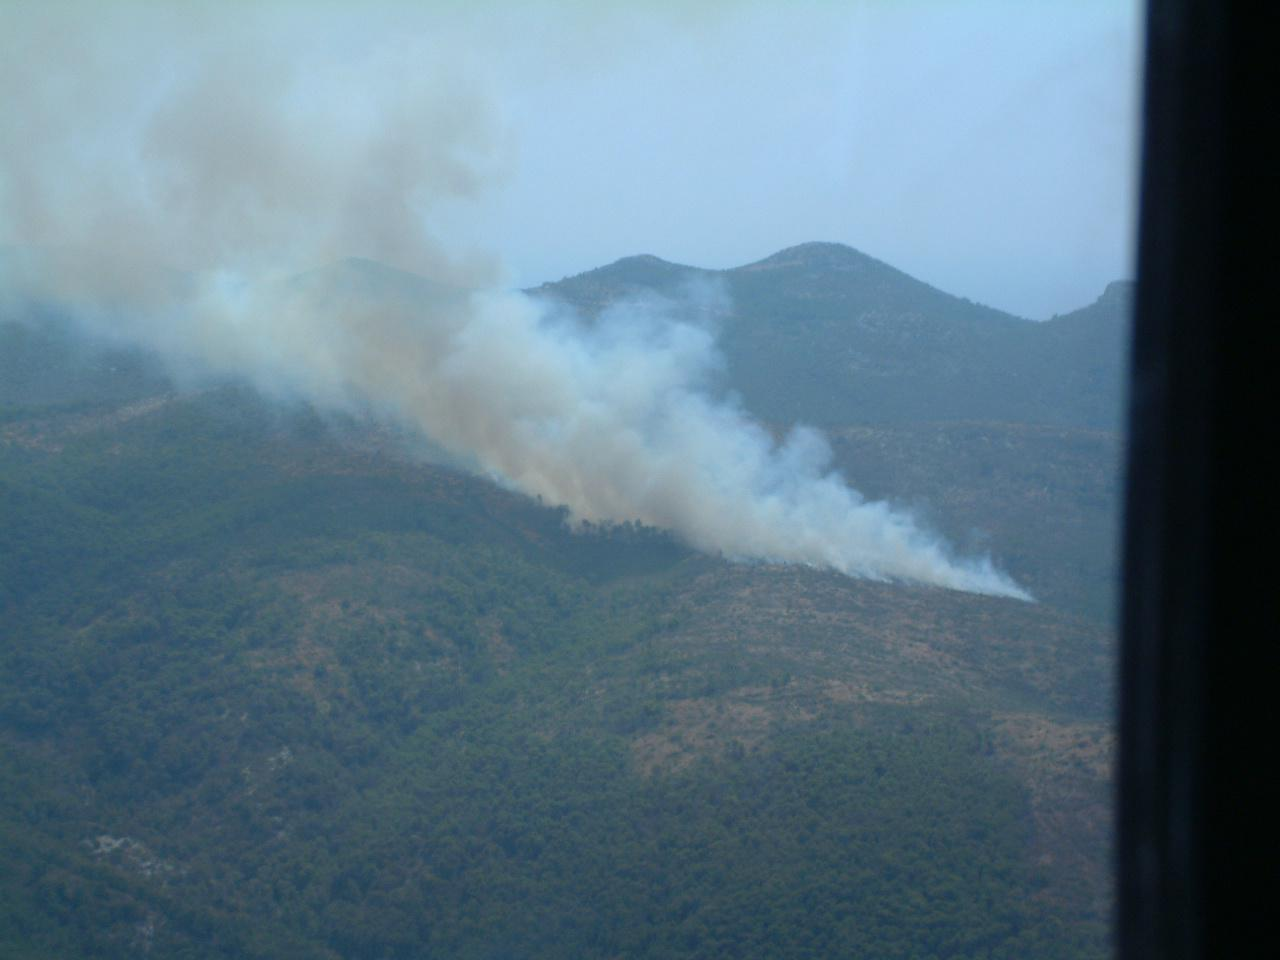Smoke: (2, 6, 1028, 592)
